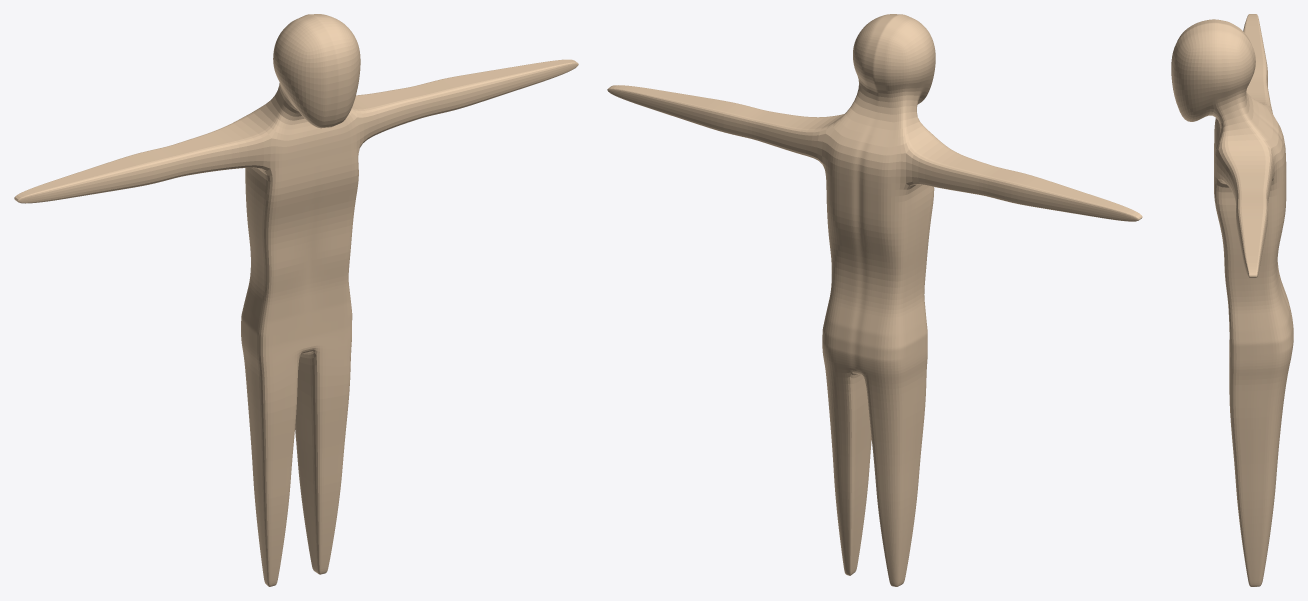
File: ReRiggedGrayCharacter7-9-2018ScaleTest4.fbx
3 views of the same model, side by side, from view 1: azimuth 30°, elevation 25°; view 2: azimuth 150°, elevation 25°; view 3: azimuth 270°, elevation 25° (orthographic). The views are drawn at different scales.
Parts seen in each view (by area): view 1: Body; view 2: Body; view 3: Body.
Part boxes in pixels (x1,y1,x2,y2): Body: (14, 14, 578, 586); Body: (607, 14, 1142, 586); Body: (1171, 14, 1293, 586).
Size of the model in its own units: 123 by 121 by 24.4.
